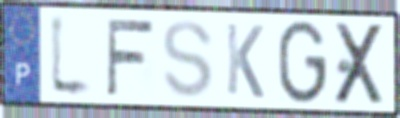F: (104, 16, 157, 98)
G: (276, 18, 330, 107)
K: (223, 20, 266, 102)
L: (48, 9, 98, 103)
S: (159, 18, 216, 101)
X: (331, 21, 388, 107)
